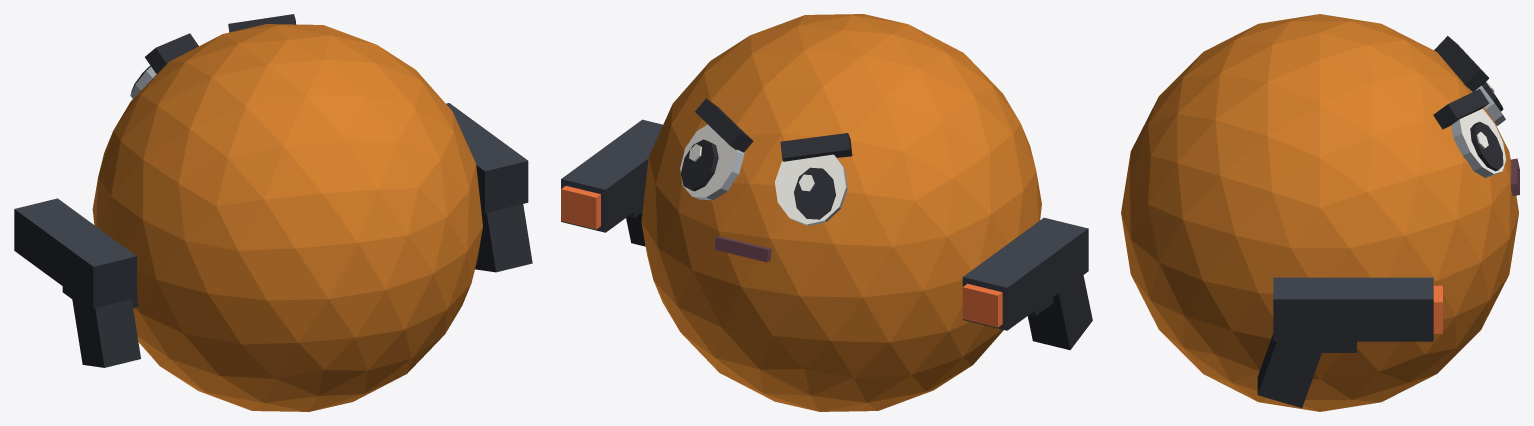
The model's file is CH_Mermo_T3.fbx.
3 views of the same model, side by side, from view 1: azimuth 30°, elevation 25°; view 2: azimuth 150°, elevation 25°; view 3: azimuth 270°, elevation 25° (orthographic). The views are drawn at different scales.
Parts seen in each view (by area): view 1: CH_Mermo_T3; view 2: CH_Mermo_T3; view 3: CH_Mermo_T3.
Boxes of the visible parts, x1,y1,x2,y2 form: CH_Mermo_T3: [14, 14, 532, 411]; CH_Mermo_T3: [561, 14, 1092, 411]; CH_Mermo_T3: [1121, 14, 1519, 411].
Bounding box in the file's own units: 1.28 × 1 × 1.
